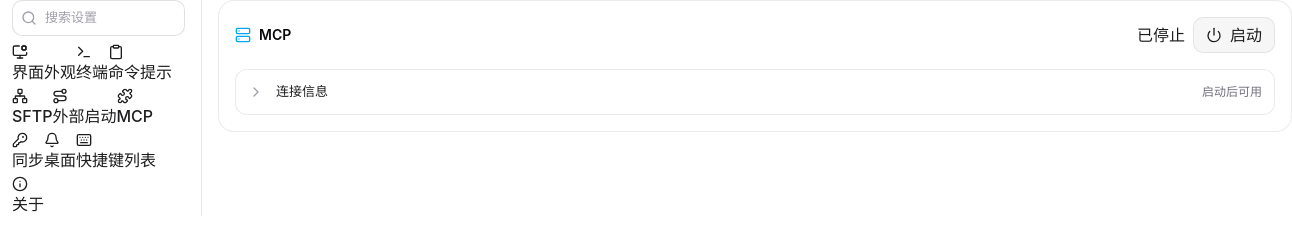
it: SettingsToolContent Kerminal MCP Server page › notifies when the user starts the MCP server and startup fails
This screenshot has width=1292, height=235.
Click the button "启动".
click(1234, 35)  # box [1193, 17, 1275, 53]
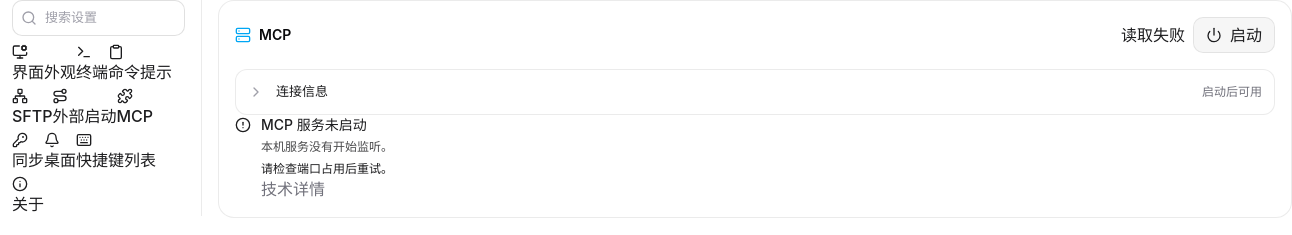
Check: the text "MCP 服务未启动" is shown, box [261, 116, 367, 133]
